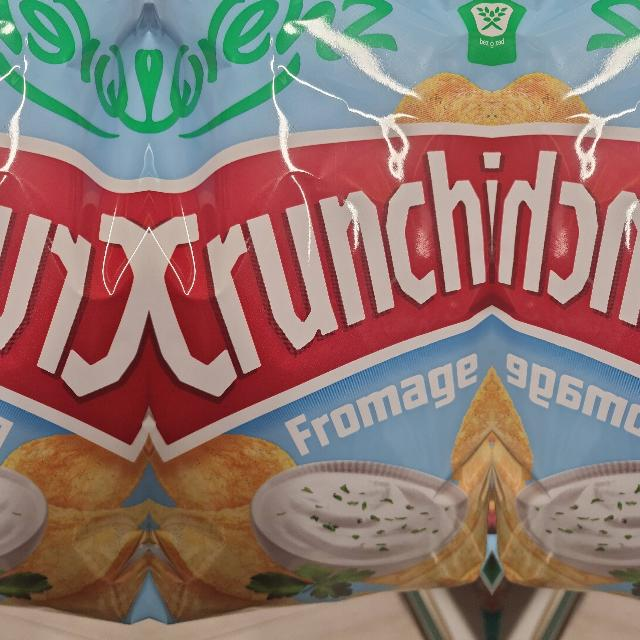crunchips: (149, 124, 492, 464), (1, 134, 149, 464), (492, 124, 640, 379)
